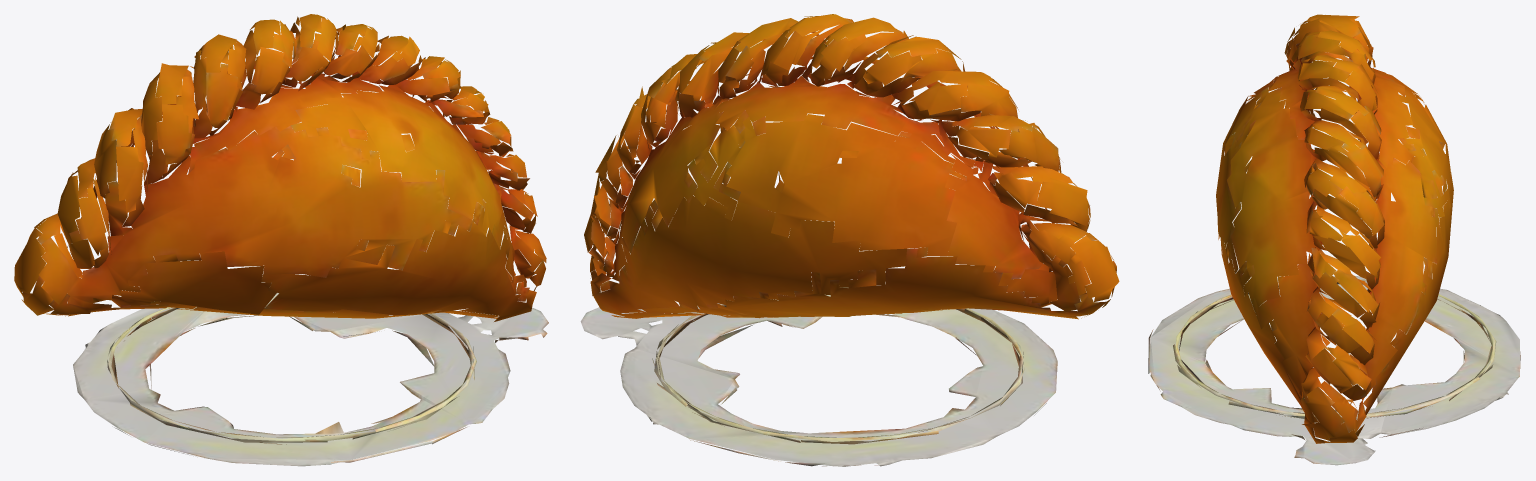
The model's file is empanada-coin.glb.
3 views of the same model, side by side, from view 1: azimuth 30°, elevation 25°; view 2: azimuth 150°, elevation 25°; view 3: azimuth 270°, elevation 25° (orthographic). The views are drawn at different scales.
Visible parts, largest first — view 1: CN_empanada-coin; view 2: CN_empanada-coin; view 3: CN_empanada-coin.
Part boxes in pixels (x1,y1,x2,y2): CN_empanada-coin: [14, 14, 548, 466]; CN_empanada-coin: [580, 14, 1119, 466]; CN_empanada-coin: [1148, 14, 1520, 465].
Size of the model in its own units: 1 by 0.6587 by 0.7013.
Materials: 1 (1 with a texture image).
